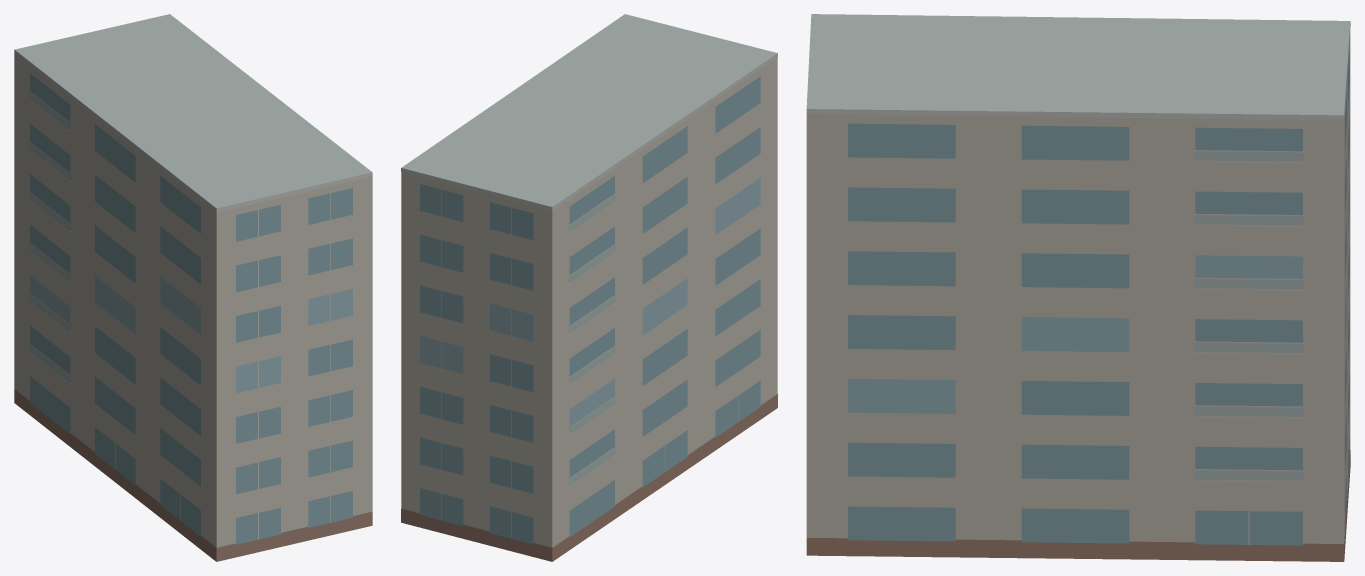
File: survey-upis-33008077.glb
3 views of the same model, side by side, from view 1: azimuth 30°, elevation 25°; view 2: azimuth 150°, elevation 25°; view 3: azimuth 270°, elevation 25° (orthographic). The views are drawn at different scales.
Visible parts, largest first — view 1: survey-upis-33008077.tmp; view 2: survey-upis-33008077.tmp; view 3: survey-upis-33008077.tmp.
Boxes of the visible parts, <box> form: survey-upis-33008077.tmp: <box>14,14,372,561</box>; survey-upis-33008077.tmp: <box>401,14,777,561</box>; survey-upis-33008077.tmp: <box>806,14,1350,561</box>.
Bounding box in the file's own units: 10.18 × 20.9 × 23.07.
